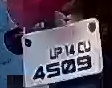0: (60, 58, 78, 74)
1: (64, 44, 69, 58)
4: (31, 63, 46, 80), (69, 44, 76, 56)
5: (46, 61, 61, 78)
9: (75, 55, 93, 71)
C: (77, 40, 84, 55)
P: (55, 46, 63, 59)
U: (84, 38, 91, 53), (49, 48, 57, 61)
